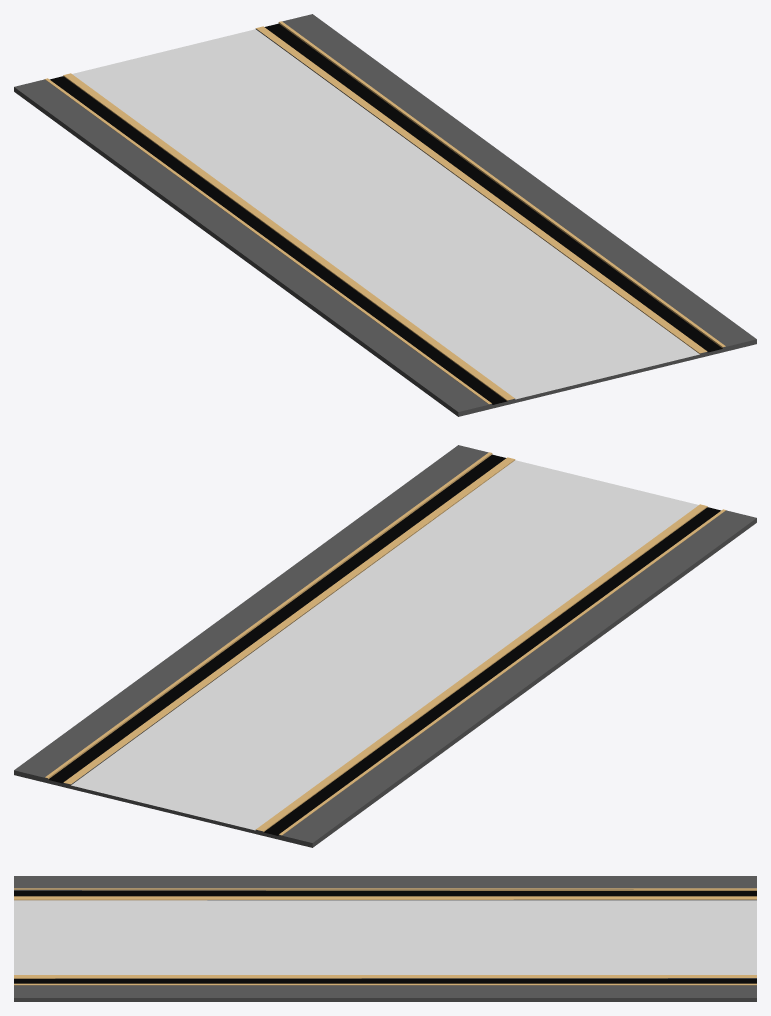
The model's file is Streight-Colored - With Line - UV map correction.fbx.
3 views of the same model, one above another, from view 1: azimuth 30°, elevation 25°; view 2: azimuth 150°, elevation 25°; view 3: azimuth 270°, elevation 25° (orthographic). The views are drawn at different scales.
Visible parts, largest first — view 1: Road_Streight; view 2: Road_Streight; view 3: Road_Streight.
Part boxes in pixels (box(x1,y1,x2,y2)): Road_Streight: box(14, 14, 756, 416); Road_Streight: box(14, 445, 756, 847); Road_Streight: box(14, 876, 756, 1001).
Size of the model in its own units: 970 by 16 by 2500.
